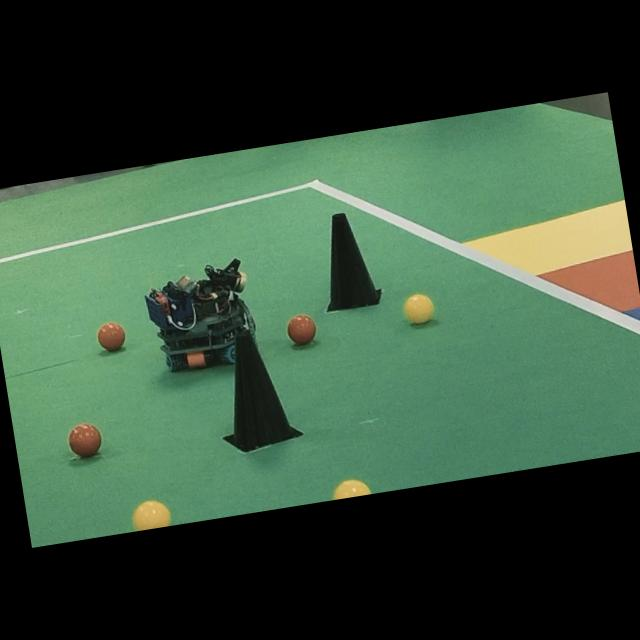ball: (133, 500, 171, 531), (69, 423, 102, 458), (404, 294, 434, 324), (287, 315, 316, 345), (97, 322, 126, 351), (333, 479, 372, 500)
goal: (465, 200, 632, 275), (540, 250, 640, 311), (625, 307, 640, 319)
